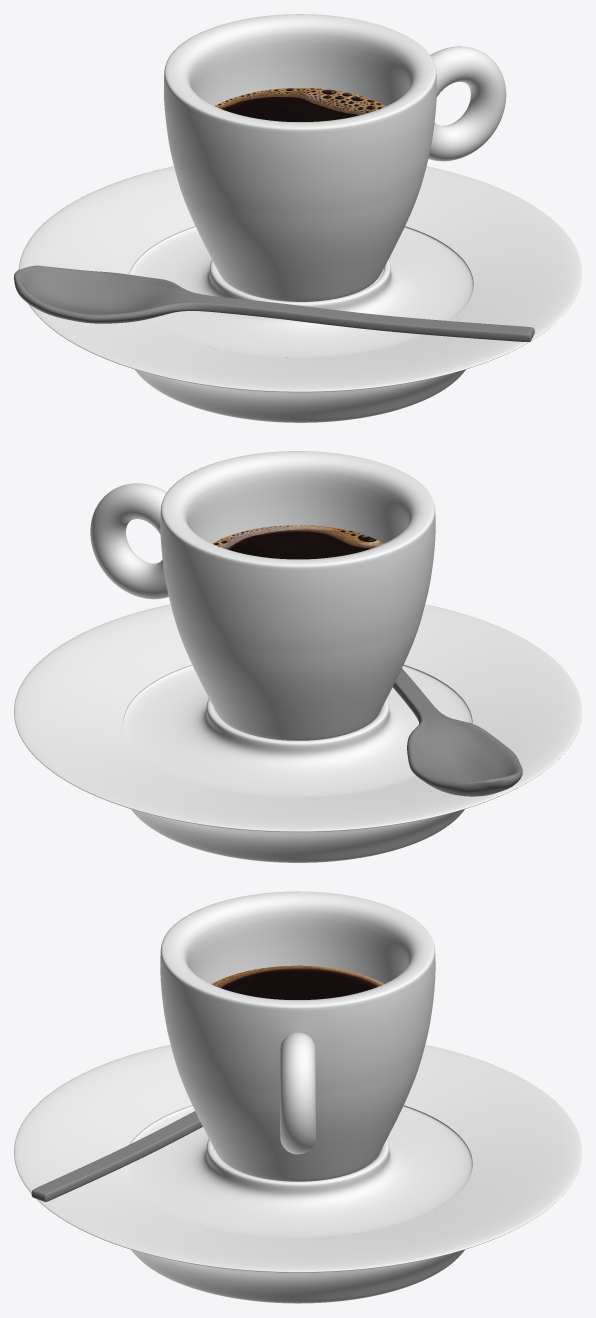
Rendered from espresso_cup.glb.
The picture shows the model from 3 angles, top to bottom: view 1: azimuth 30°, elevation 25°; view 2: azimuth 150°, elevation 25°; view 3: azimuth 270°, elevation 25°; orthographic projection.
Visible parts, largest first — view 1: plate, coffee-mug, Plane, coffee; view 2: plate, coffee-mug, Plane, coffee; view 3: plate, coffee-mug, coffee, Plane.
Boxes of the visible parts, x1,y1,x2,y2 form: plate: [18, 166, 581, 422]; coffee-mug: [164, 14, 506, 301]; Plane: [14, 265, 534, 341]; coffee: [215, 88, 385, 121]; plate: [14, 604, 581, 862]; coffee-mug: [90, 451, 435, 740]; Plane: [393, 668, 522, 796]; coffee: [212, 525, 383, 559]; plate: [14, 1044, 581, 1303]; coffee-mug: [160, 891, 435, 1181]; coffee: [211, 965, 383, 999]; Plane: [31, 1111, 202, 1201].
Bounding box in the file's own units: 0.2397 × 0.131 × 0.2376.
Materials: 4 (3 with a texture image).
